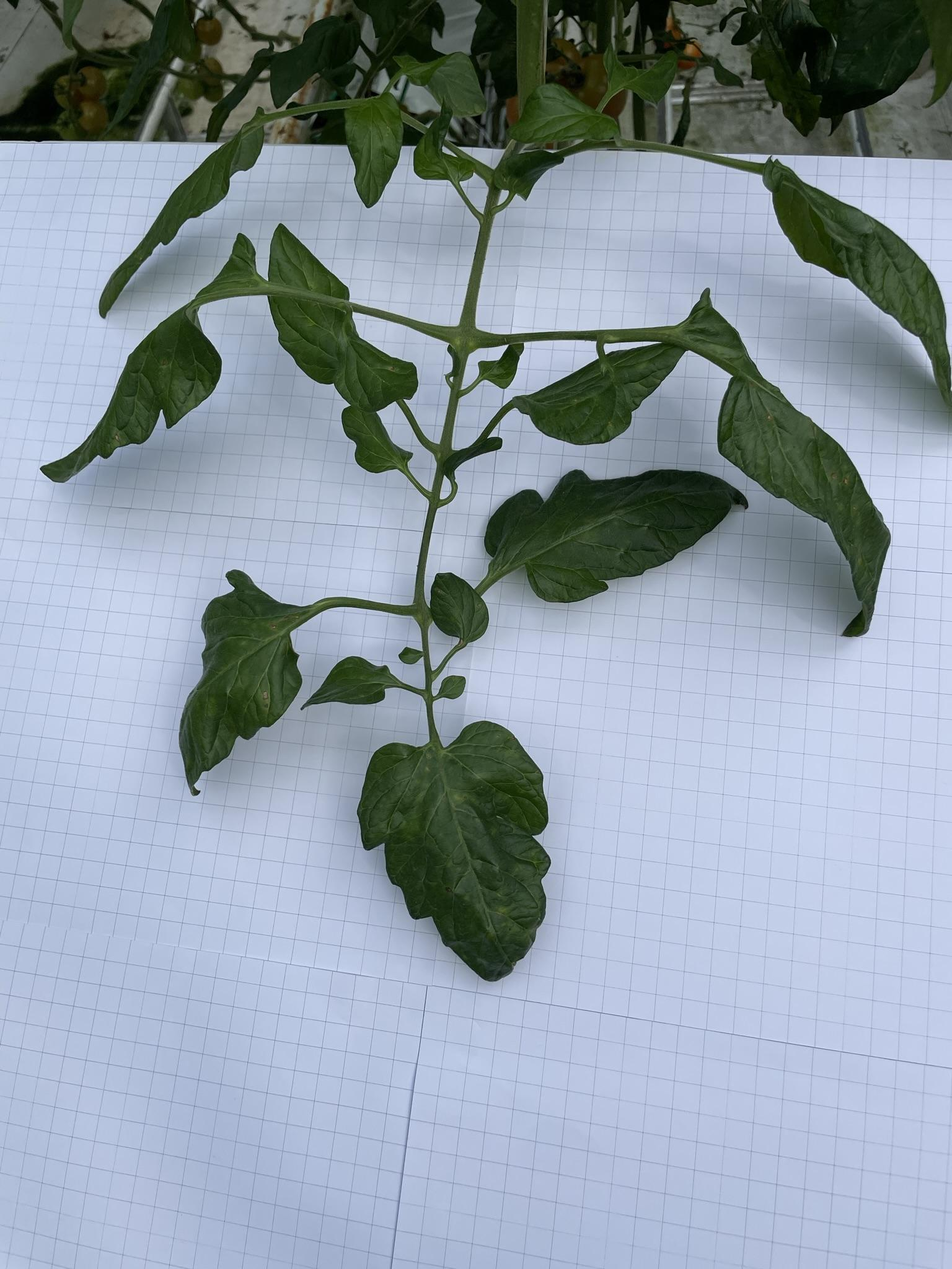Healthy: (38, 231, 255, 484), (762, 155, 952, 405), (482, 467, 750, 605), (96, 105, 265, 320), (266, 221, 422, 410), (512, 341, 686, 446), (267, 15, 361, 111), (510, 81, 620, 146), (345, 94, 403, 210), (393, 51, 486, 118), (299, 655, 397, 710), (341, 404, 414, 474), (603, 42, 680, 108), (429, 572, 490, 644), (494, 150, 568, 203)
Iron Deficiency: (354, 719, 553, 985), (176, 567, 306, 797)
